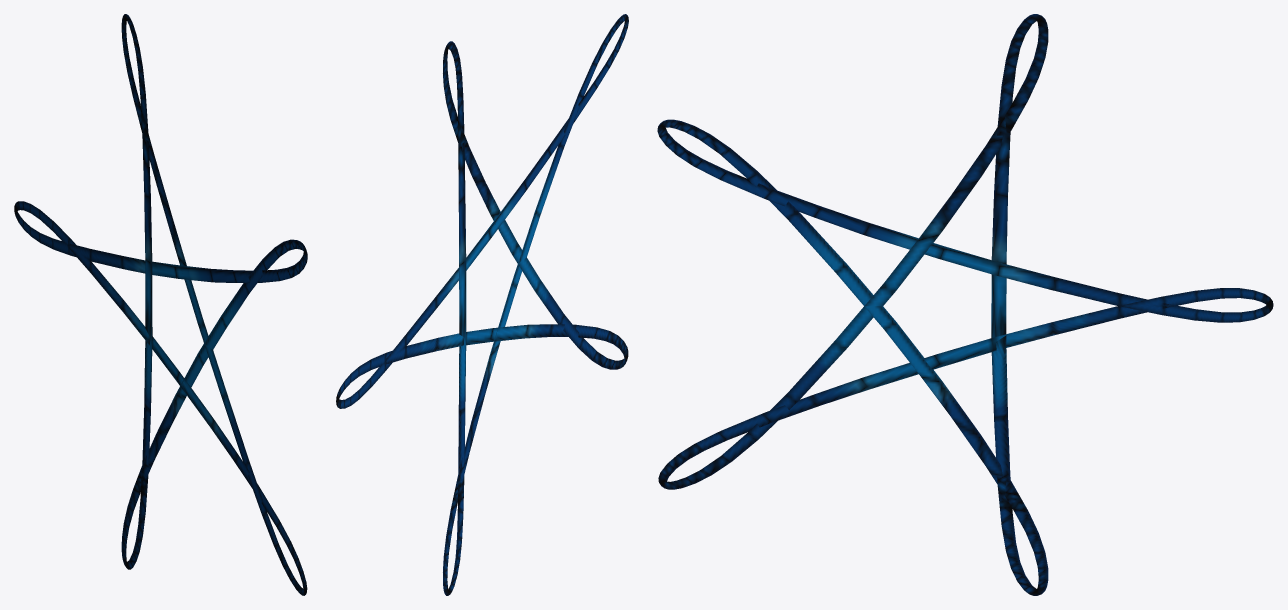
3 views of the same model, side by side, from view 1: azimuth 30°, elevation 25°; view 2: azimuth 150°, elevation 25°; view 3: azimuth 270°, elevation 25° (orthographic). The views are drawn at different scales.
Parts seen in each view (by area): view 1: Curve_CUpath3799; view 2: Curve_CUpath3799; view 3: Curve_CUpath3799.
Part boxes in pixels (<box>): Curve_CUpath3799: <box>14,14,307,595</box>; Curve_CUpath3799: <box>336,14,628,595</box>; Curve_CUpath3799: <box>657,14,1273,595</box>.
Bounding box in the file's own units: 0.0408 × 5.4 × 5.18.
Materials: 1 (1 with a texture image).
